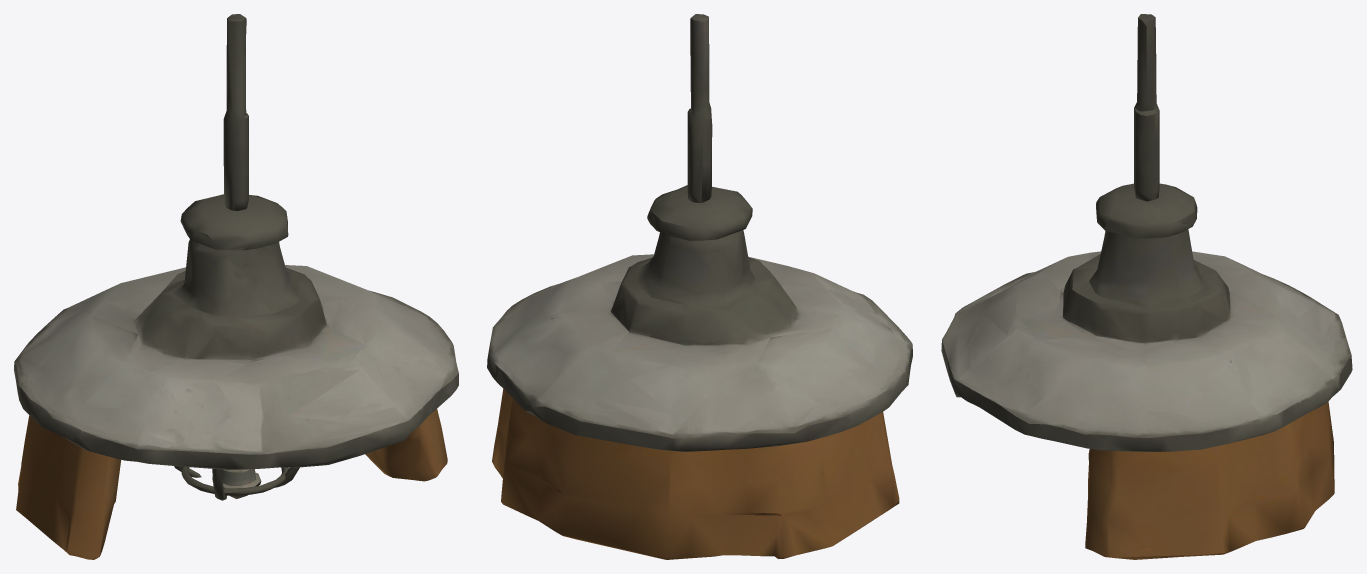
File: lamp_ceiling_idle.glb
3 renders of one model, left to right at view 1: azimuth 30°, elevation 25°; view 2: azimuth 150°, elevation 25°; view 3: azimuth 270°, elevation 25°, orthographic. The views are drawn at different scales.
Parts seen in each view (by area): view 1: tripo_node_759b07ce-f790-456a-9353-e855694e262e; view 2: tripo_node_759b07ce-f790-456a-9353-e855694e262e; view 3: tripo_node_759b07ce-f790-456a-9353-e855694e262e.
Part boxes in pixels (bbox=[...]): tripo_node_759b07ce-f790-456a-9353-e855694e262e: bbox=[14, 14, 458, 559]; tripo_node_759b07ce-f790-456a-9353-e855694e262e: bbox=[487, 14, 912, 559]; tripo_node_759b07ce-f790-456a-9353-e855694e262e: bbox=[941, 14, 1352, 559].
Bounding box in the file's own units: 0.3388 × 0.3999 × 0.324.
1 material, 1 textured.
